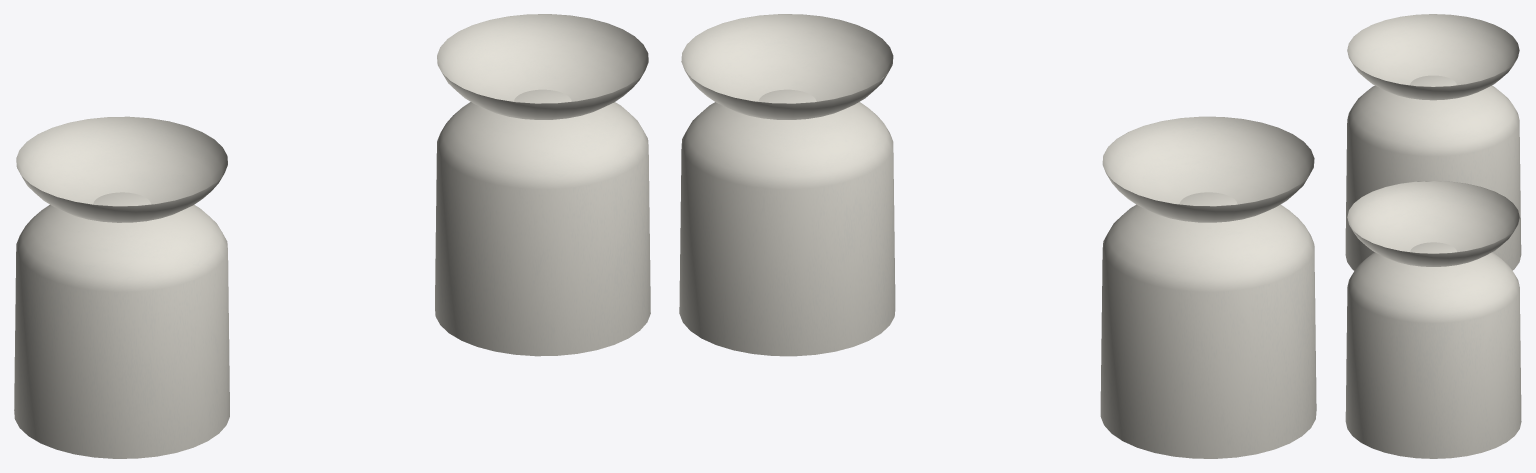
Rendered from pale_leaf2_standard_tornado.glb.
The picture shows the model from 3 angles, left to right: view 1: azimuth 30°, elevation 25°; view 2: azimuth 150°, elevation 25°; view 3: azimuth 270°, elevation 25°; orthographic projection. The views are drawn at different scales.
Visible parts, largest first — view 1: tornado; view 2: tornado; view 3: tornado.
Boxes of the visible parts, bbox=[...] form: tornado: bbox=[14, 14, 650, 458]; tornado: bbox=[679, 14, 1316, 458]; tornado: bbox=[1345, 14, 1521, 458].
Size of the model in its own units: 6.17 by 2.44 by 1.9.
Materials: 1 (1 with a texture image).
